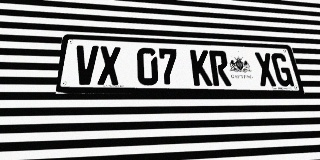0: (137, 47, 158, 85)
7: (157, 48, 179, 86)
G: (270, 53, 294, 86)
K: (190, 50, 213, 86)
R: (209, 50, 232, 86)
V: (73, 45, 99, 85)
X: (97, 46, 120, 85), (254, 52, 278, 86)
